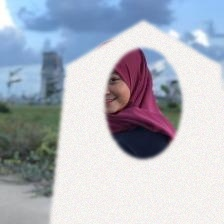Mukena: (48, 20, 224, 224)
